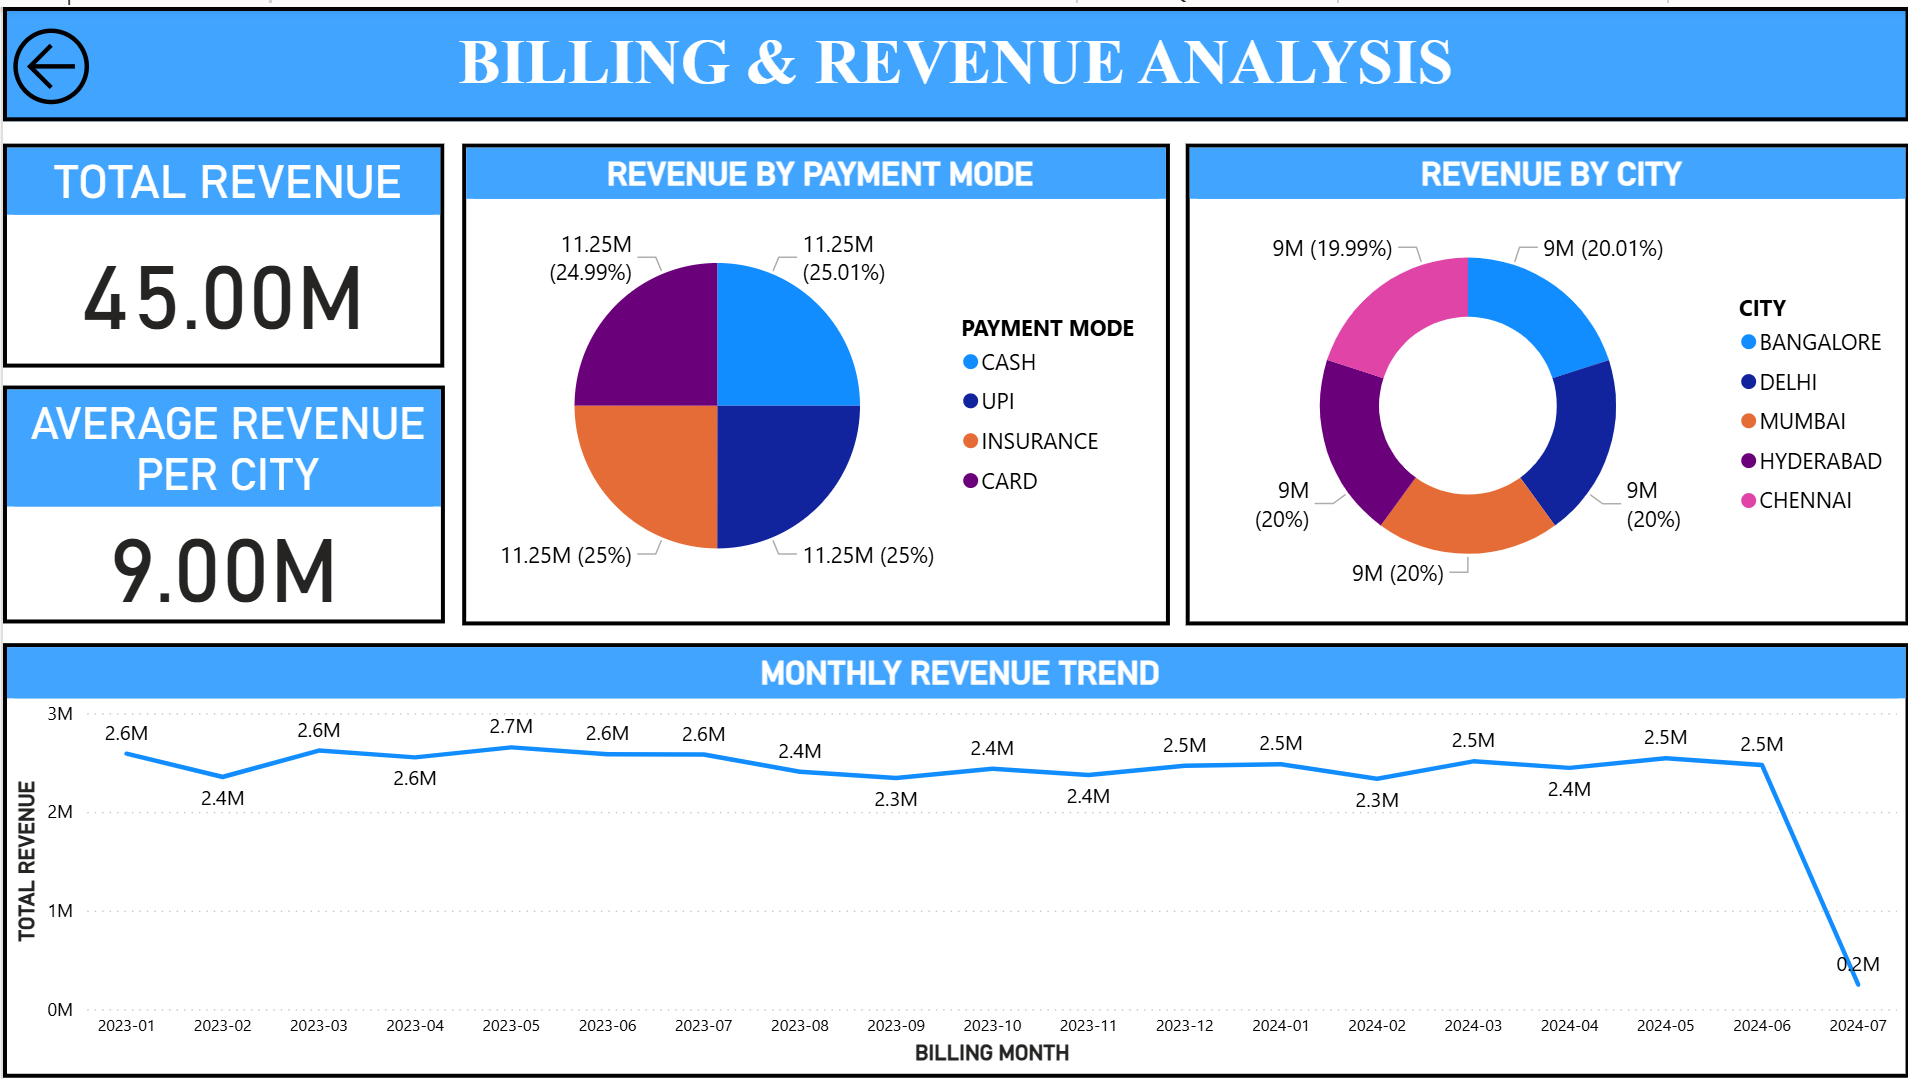

What the dashboard file says about the page in this screenshot:
{"tool":"powerbi","page":{"name":"BILLING & REVENUE","canvas":[1280,720],"ordinal":6},"visuals":[{"type":"textbox","box":[0,0,1280.6,76.7],"z":0},{"type":"lineChart","title":"MONTHLY REVENUE TREND","fields":{"Category":["MONTHLY REVENUE.BILLING_MONTH"],"Y":["Sum(MONTHLY REVENUE.TOTAL_REVENUE)"]},"box":[0,427.4,1280.6,291.9],"z":1000},{"type":"donutChart","title":"REVENUE BY CITY","fields":{"Category":["REVENUE BY CITY.CITY"],"Y":["Sum(REVENUE BY CITY.REVENUE)"]},"box":[794.6,91.8,486.1,323.5],"z":2000},{"type":"pieChart","title":"REVENUE BY PAYMENT MODE","fields":{"Category":["REVENUE BY PAYMENT MODE.PAYMENT_MODE"],"Y":["Sum(REVENUE BY PAYMENT MODE.REVENUE)"]},"box":[308.5,91.8,475.5,323.5],"z":3000},{"type":"card","title":"TOTAL REVENUE","fields":{"Values":["Sum(TOTAL REVENUE.TOTAL_REVENUE)"]},"box":[0,91.8,296.5,150.5],"z":4000},{"type":"card","title":"AVERAGE REVENUE PER CITY","fields":{"Values":["Avg(REVENUE BY CITY.REVENUE)"]},"box":[0,255,296.7,160],"z":5000},{"type":"actionButton","box":[0,7.5,84.3,64.7],"z":5001}]}

Visuals, with their boxes in screenshot pixels (x1, y1, x2, y2), scaled from the page's 1280x720 canvas onto the 1908x1079 screenshot:
textbox: [x1=0, y1=0, x2=1907, y2=115]
"MONTHLY REVENUE TREND" lineChart: [x1=0, y1=641, x2=1907, y2=1078]
"REVENUE BY CITY" donutChart: [x1=1184, y1=138, x2=1907, y2=622]
"REVENUE BY PAYMENT MODE" pieChart: [x1=460, y1=138, x2=1169, y2=622]
"TOTAL REVENUE" card: [x1=0, y1=138, x2=442, y2=363]
"AVERAGE REVENUE PER CITY" card: [x1=0, y1=382, x2=442, y2=622]
actionButton: [x1=0, y1=11, x2=126, y2=108]
